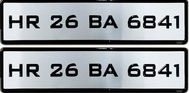character: (25, 13, 40, 30), (8, 14, 24, 29), (7, 62, 23, 77), (102, 14, 117, 29), (102, 63, 117, 78), (25, 62, 39, 78), (141, 14, 156, 28), (157, 14, 172, 28), (157, 63, 172, 77), (64, 14, 78, 28), (126, 63, 140, 77), (49, 14, 62, 29), (49, 62, 62, 77), (65, 62, 78, 77), (88, 62, 101, 77), (142, 62, 155, 77), (88, 14, 101, 28), (127, 14, 140, 28), (172, 13, 179, 29), (172, 62, 179, 78)
